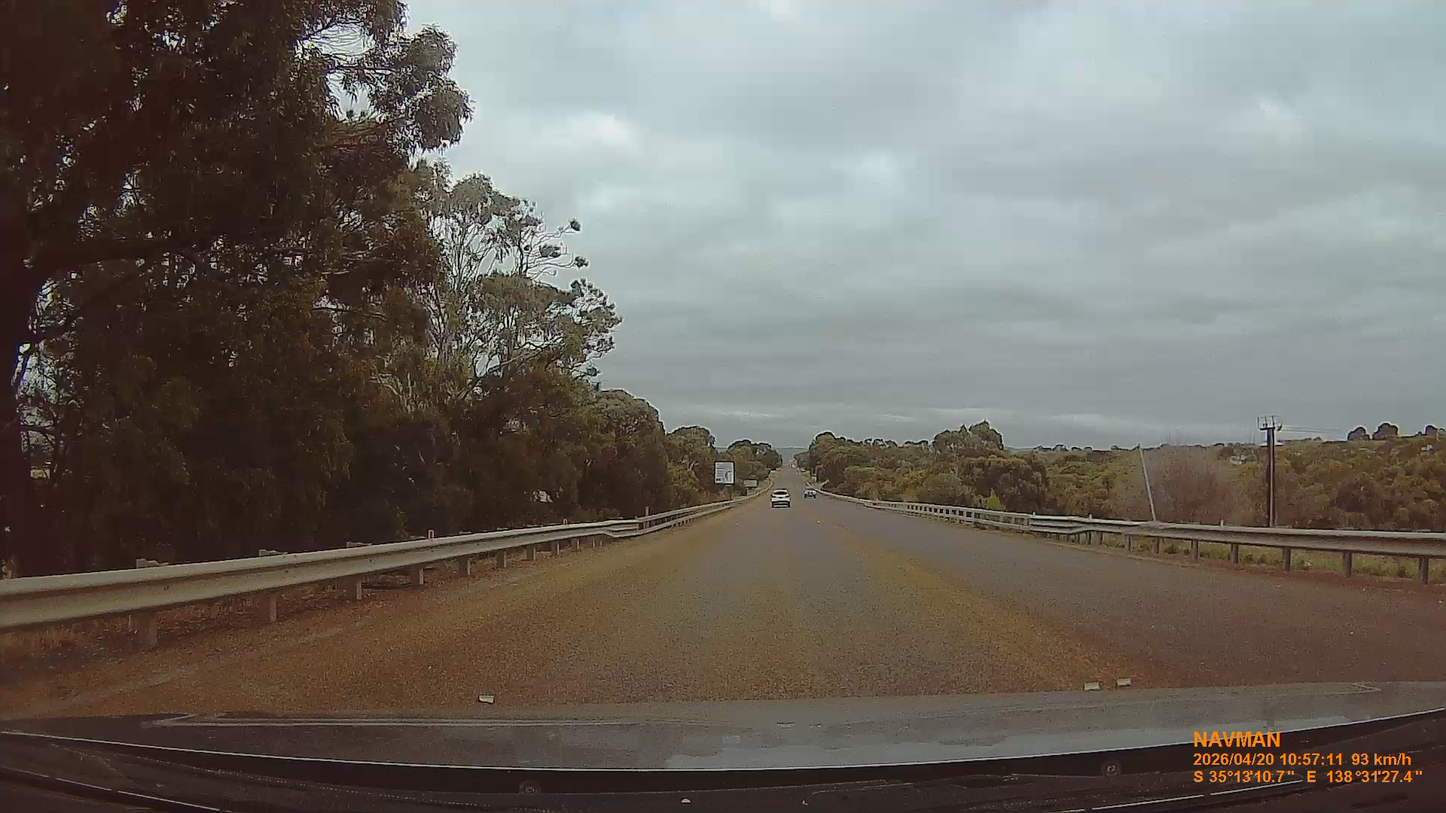road barriers: (0, 495, 755, 647), (824, 492, 1445, 583)
